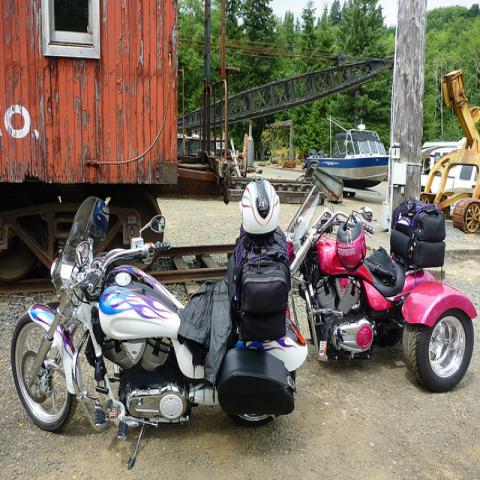motorcycle: (12, 193, 310, 469), (284, 186, 480, 406)
